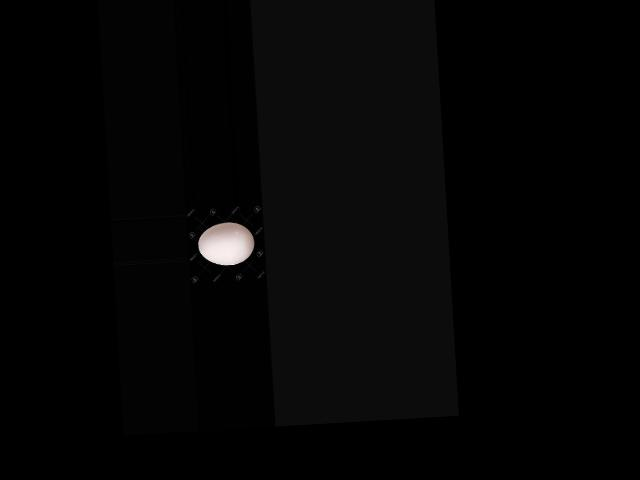egg: (197, 221, 255, 267)
